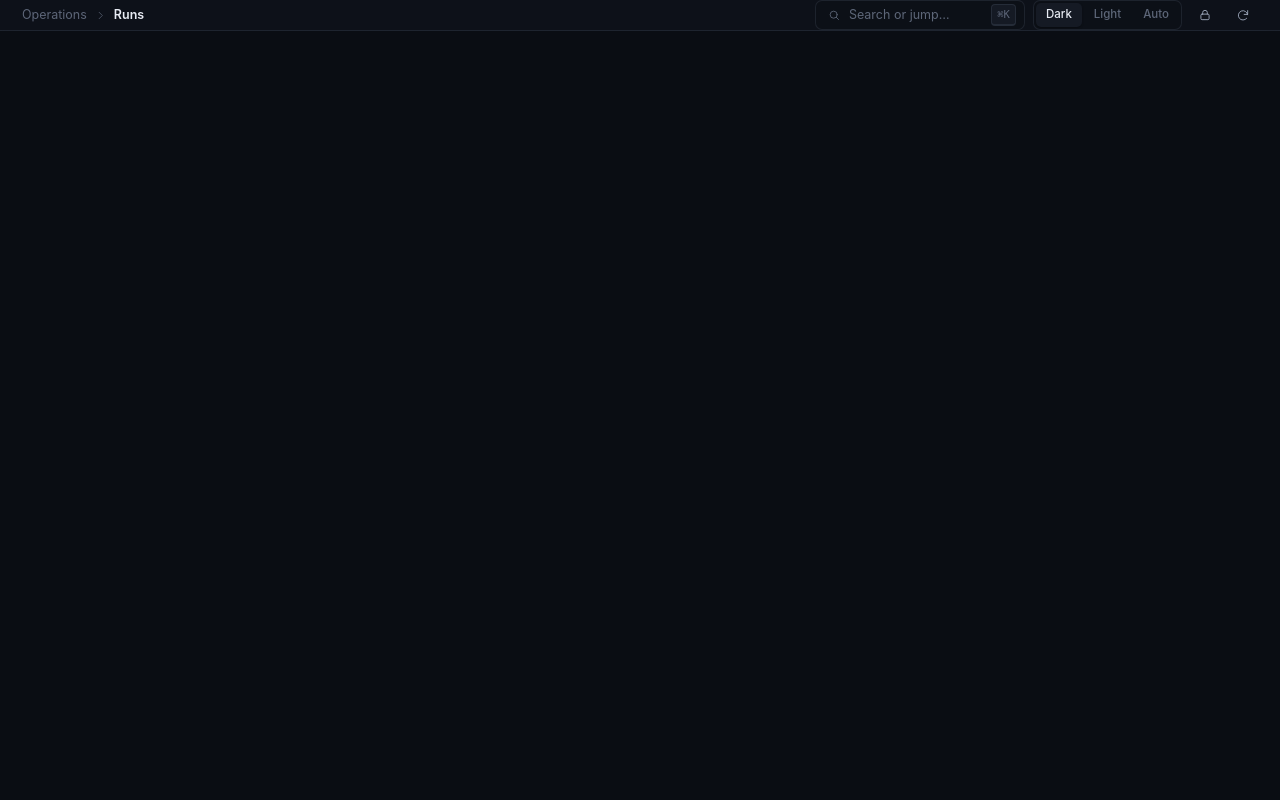
TopBar (AppShell/TopBar.tsx) › token button reflects the unset state and opens the modal
Click the button named "Set bearer token".
click(1205, 15)  # box left=1190, top=0, right=1220, bottom=30
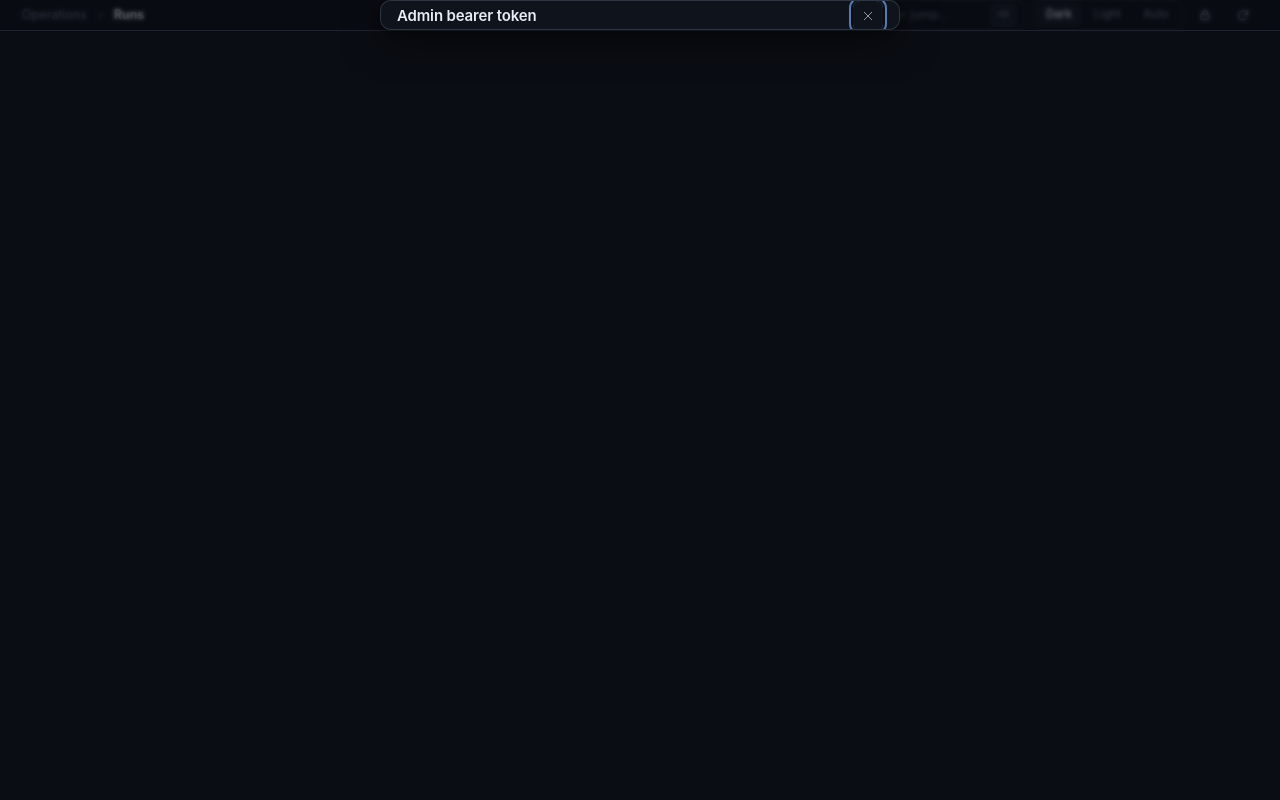
expect the dialog is shown: met, box left=380, top=0, right=900, bottom=30
